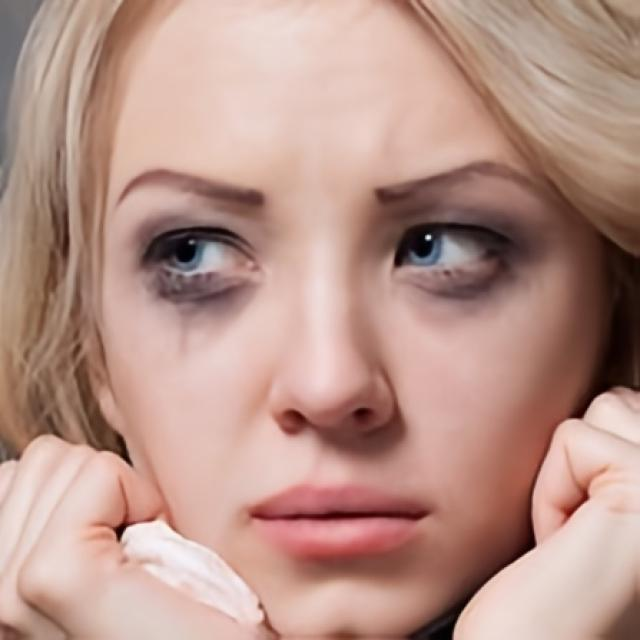sad: (99, 0, 613, 633)
